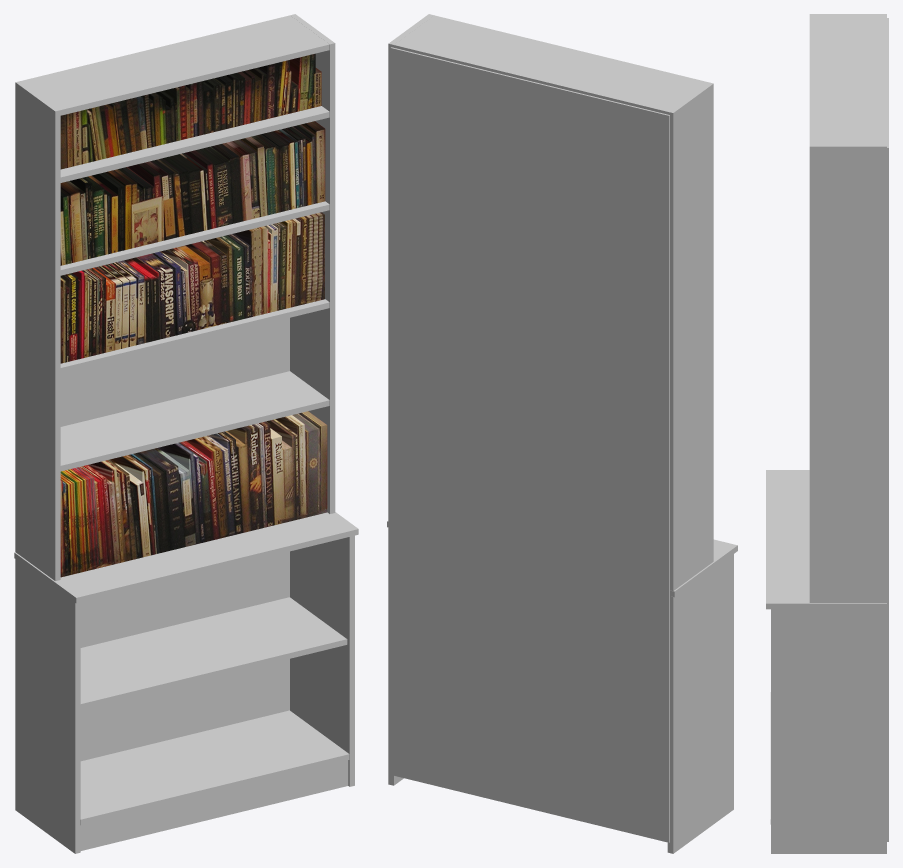
The model's file is myroom_bookcase.obj.
3 views of the same model, side by side, from view 1: azimuth 30°, elevation 25°; view 2: azimuth 150°, elevation 25°; view 3: azimuth 270°, elevation 25° (orthographic). The views are drawn at different scales.
Parts seen in each view (by area): view 1: Bookcase, Books_4, Books_3, Books_2, Books_1; view 2: Bookcase; view 3: Bookcase.
Part boxes in pixels (x1,y1,x2,y2): Bookcase: (14,14,358,853); Books_4: (60,411,327,577); Books_3: (60,212,324,363); Books_2: (60,121,325,265); Books_1: (60,53,321,169); Bookcase: (387,14,737,853); Bookcase: (766,14,888,853).
Bounding box in the file's own units: 80.08 × 197 × 31.
5 materials, 4 textured.
